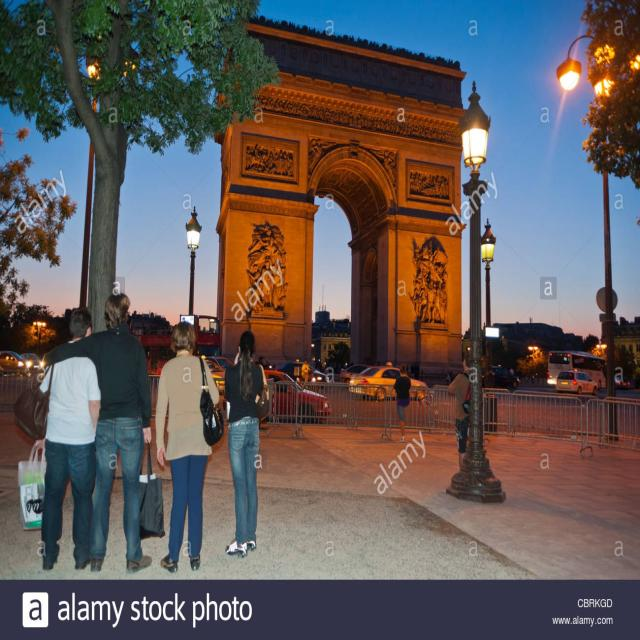body: (41, 290, 165, 574), (152, 320, 225, 574), (36, 304, 100, 573), (224, 330, 273, 558), (245, 217, 288, 324), (410, 234, 450, 326), (446, 353, 471, 471), (393, 363, 412, 443), (301, 357, 311, 382)
